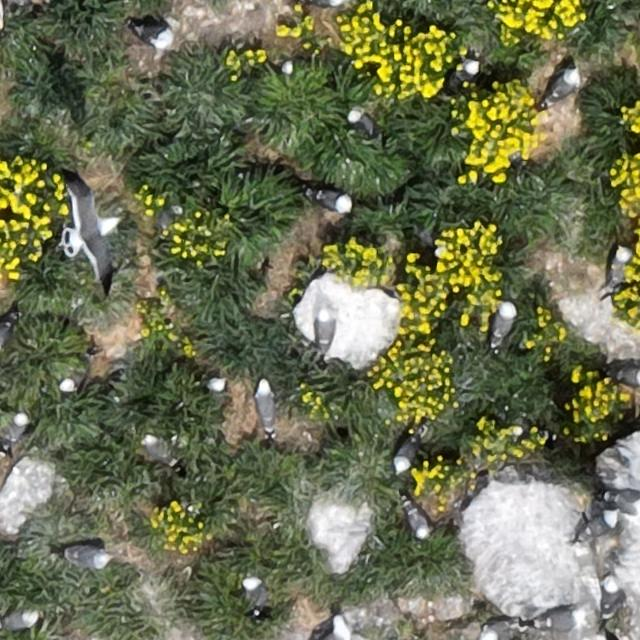F: (62, 185, 120, 282)
umineko: (58, 350, 96, 402), (533, 607, 590, 634), (598, 575, 624, 622), (547, 70, 578, 102), (66, 546, 110, 568), (445, 59, 476, 90), (491, 301, 514, 342), (135, 23, 174, 46), (312, 190, 352, 212), (256, 386, 276, 430), (395, 435, 417, 470), (144, 435, 170, 462), (581, 513, 616, 533), (242, 575, 263, 608), (406, 507, 428, 538), (610, 248, 628, 282), (347, 111, 372, 135), (315, 311, 331, 347), (4, 611, 36, 629), (157, 207, 179, 230), (610, 492, 639, 509), (10, 411, 27, 439), (616, 368, 640, 387), (206, 378, 226, 398), (0, 321, 10, 349)
